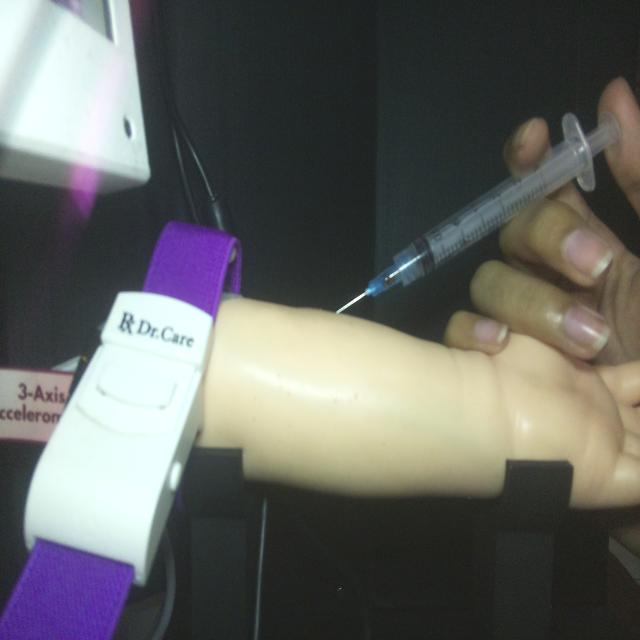22 degrees: (334, 106, 622, 317)
